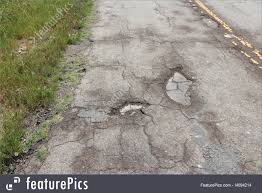pothole: (71, 147, 201, 172), (154, 59, 198, 112), (112, 95, 151, 122), (194, 3, 223, 35), (61, 105, 90, 136)
